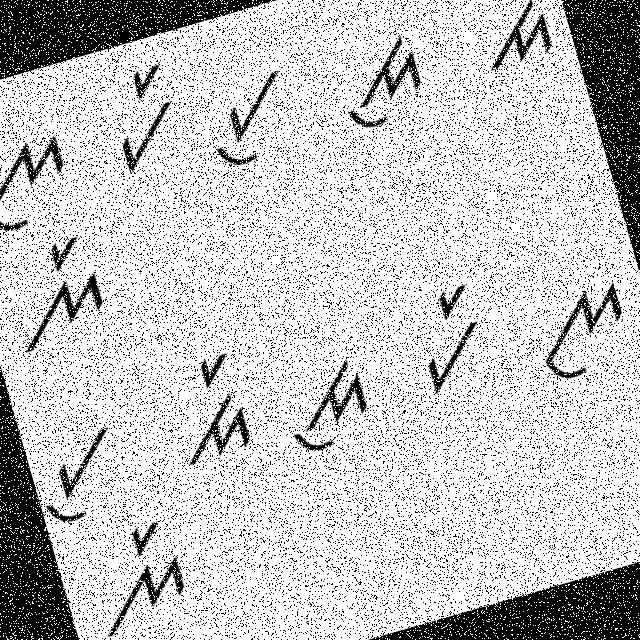dar: (157, 344, 260, 466), (451, 0, 569, 79)
daw: (314, 10, 448, 144), (267, 337, 387, 465)
nar: (75, 510, 201, 639), (0, 228, 121, 360)
naw: (519, 264, 639, 391), (0, 117, 91, 248)
par: (86, 55, 199, 185), (394, 269, 502, 405)
paw: (190, 46, 311, 180), (27, 411, 138, 528)
